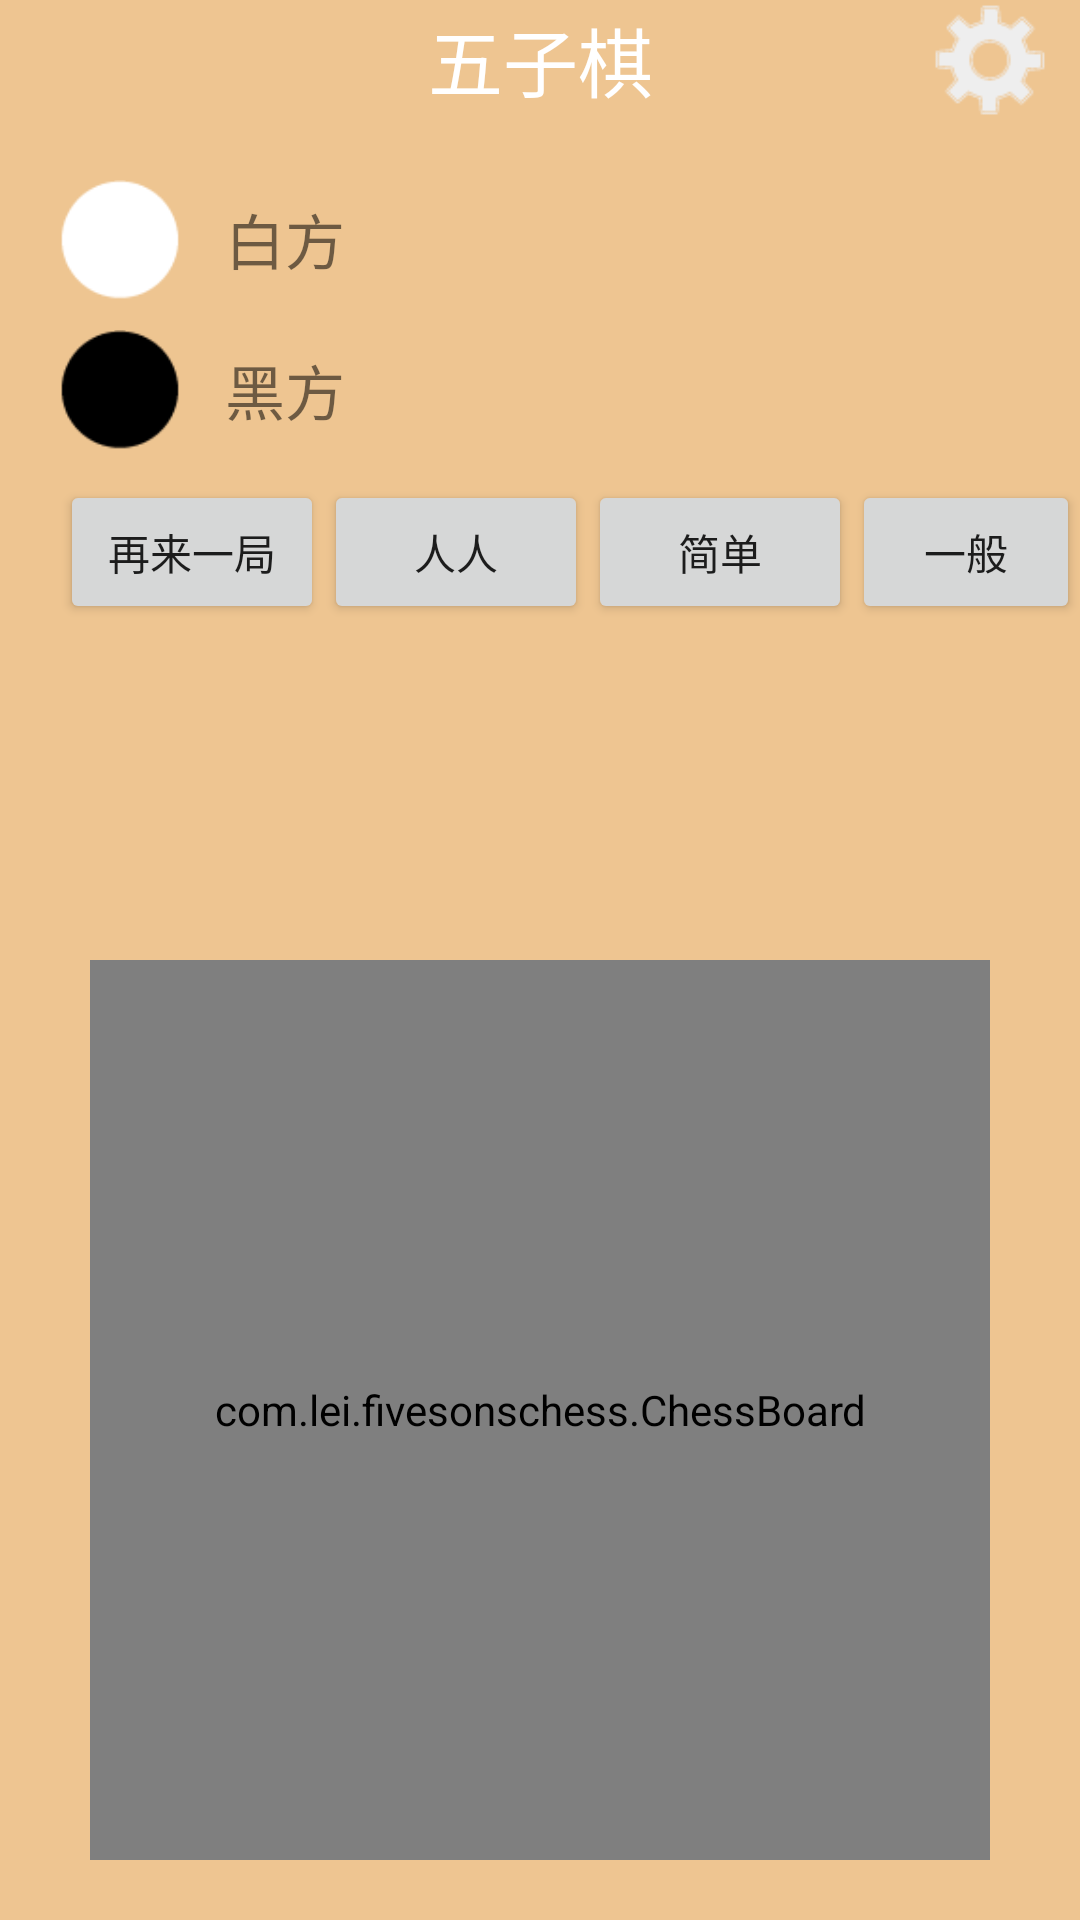

Screen size 1080x1920. Icon name, then its box in pixels as (x1, y1, x2, y2):
setting: (935, 5, 1045, 115)
